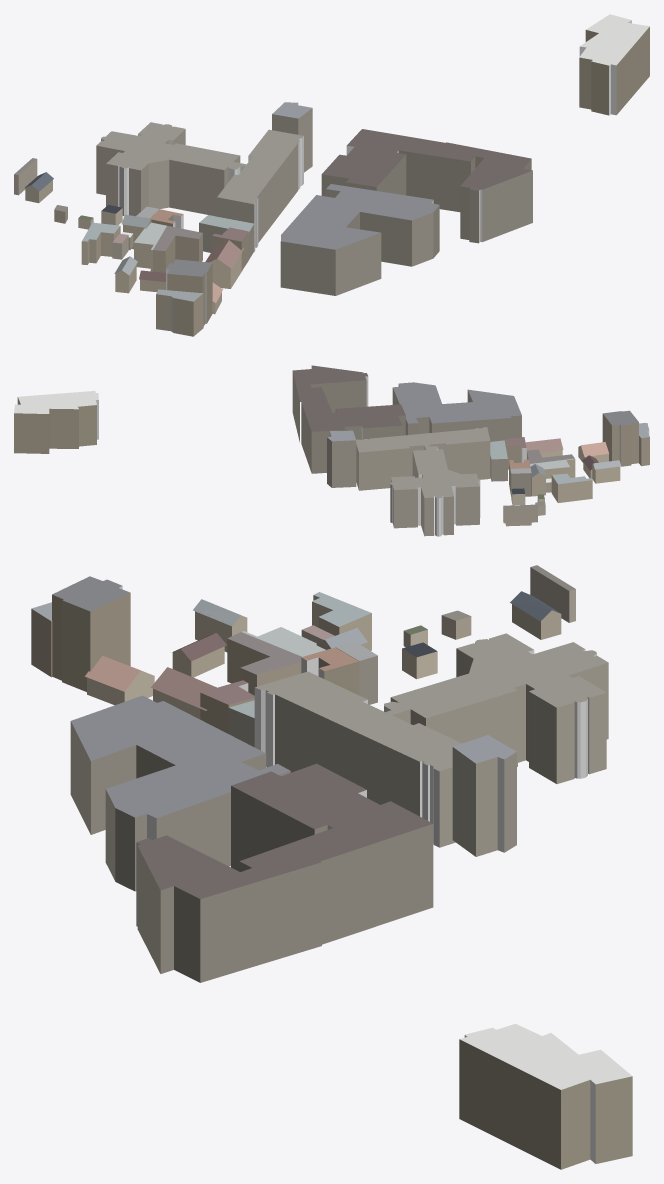
3 renders of one model, top to bottom at view 1: azimuth 30°, elevation 25°; view 2: azimuth 150°, elevation 25°; view 3: azimuth 270°, elevation 25°, orthographic. The views are drawn at different scales.
Parts seen in each view (by area): view 1: tuile; view 2: tuile; view 3: tuile.
Boxes of the visible parts, x1,y1,x2,y2 form: tuile: [14, 14, 649, 336]; tuile: [14, 365, 649, 536]; tuile: [31, 565, 632, 1169].
Size of the model in its own units: 248 by 28.1 by 125.
